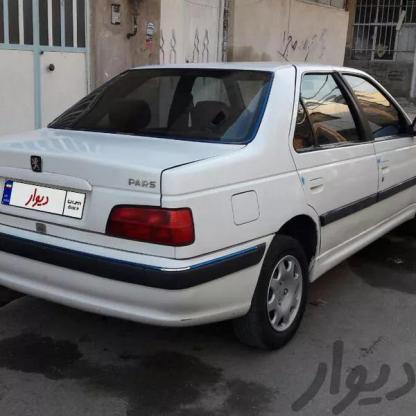Car: (0, 50, 416, 365)
